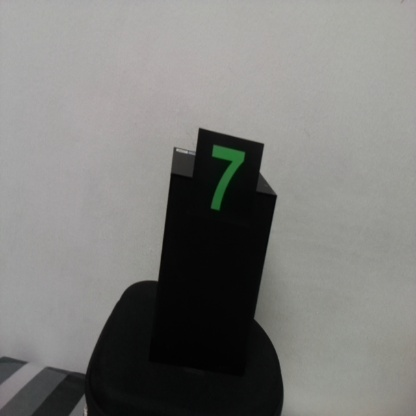id_7: (197, 130, 263, 256)
